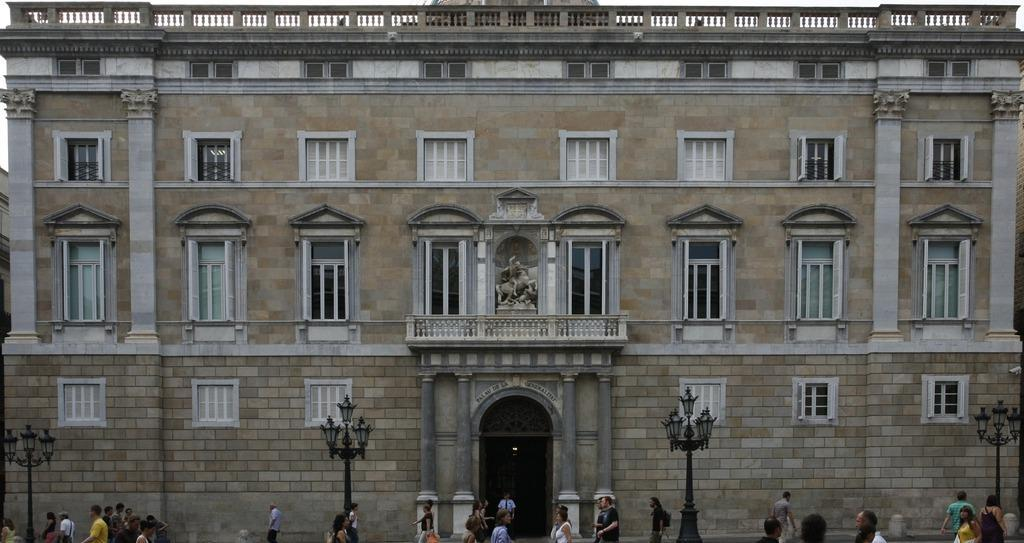window: (65, 243, 105, 322), (195, 242, 235, 321), (309, 242, 349, 321), (924, 242, 964, 321), (427, 242, 464, 327), (569, 241, 606, 326), (799, 242, 838, 320), (686, 242, 725, 320), (63, 139, 105, 183), (306, 139, 348, 182), (797, 140, 839, 183), (194, 139, 235, 183), (425, 139, 466, 183), (569, 139, 610, 183), (686, 138, 727, 181), (926, 139, 967, 181), (196, 385, 234, 423), (63, 385, 101, 423), (685, 383, 723, 421), (925, 381, 963, 419), (311, 385, 348, 423), (798, 384, 835, 422), (57, 57, 101, 75), (190, 61, 234, 78), (304, 61, 348, 78), (425, 62, 469, 79), (567, 62, 611, 79), (685, 62, 729, 79), (798, 62, 841, 79), (928, 60, 971, 77)
